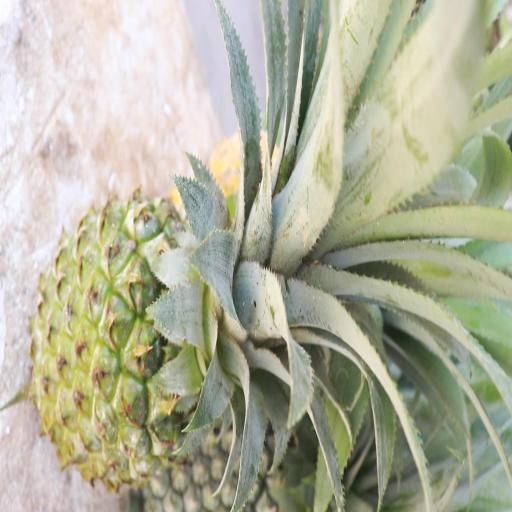------------------------------: (31, 192, 267, 496)
